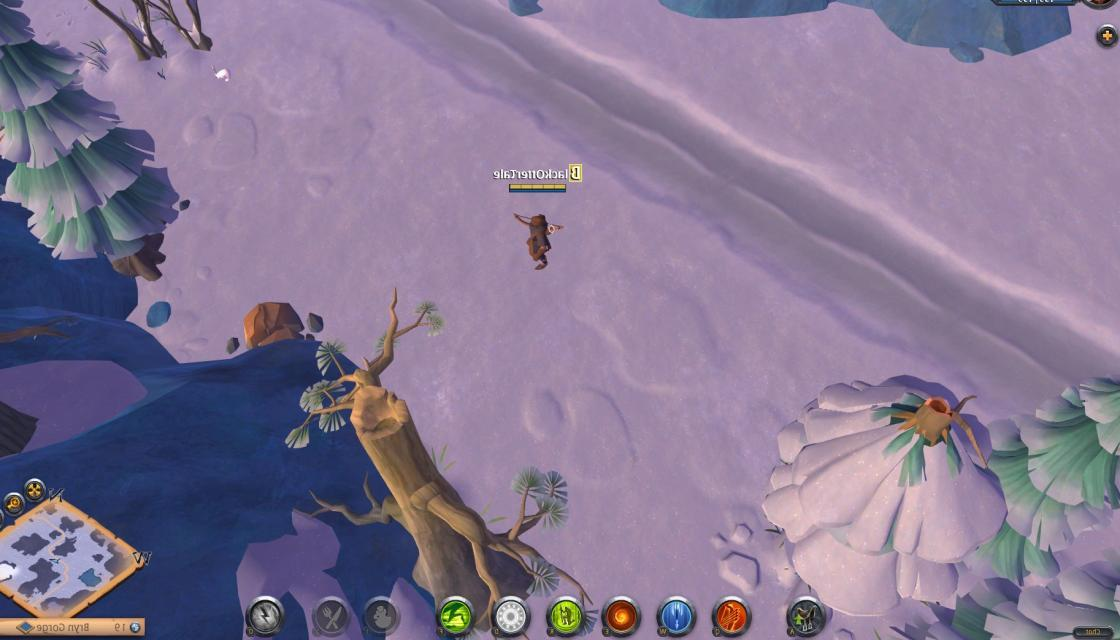limestone: (232, 295, 323, 356)
